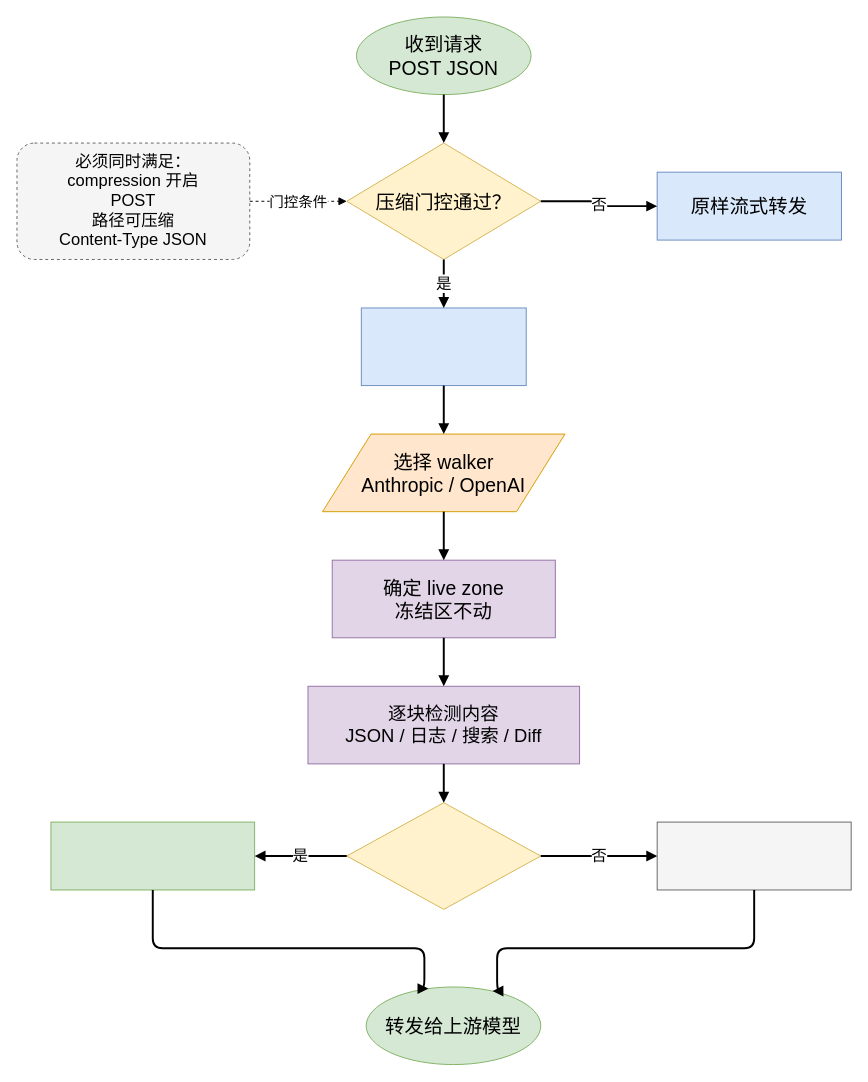
This 868x1082 diagram has some shape labels left out. The shapes that lost their labels are listed below. From the top down, each one's centre as x and y in pixels, then its label:
At (443,346): "缓冲 body 分类端点".
At (152,855): "字节段替换 插入 CCR marker".
At (443,855): "更小且过阈值？".
At (753,855): "原 body 转发 记录 no_change".
